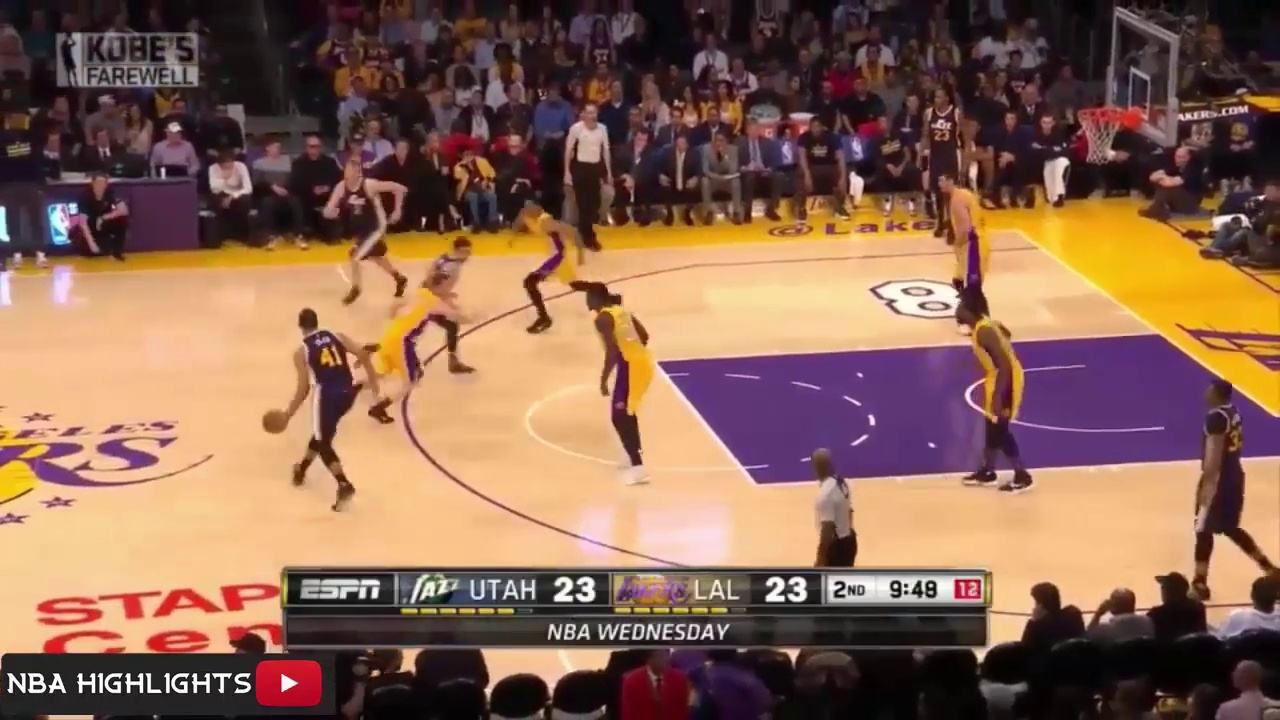jazz: (244, 302, 377, 499), (1178, 365, 1272, 591), (323, 153, 410, 301), (426, 236, 487, 377), (923, 89, 967, 230)
lakers: (569, 280, 674, 483), (949, 301, 1045, 491), (359, 274, 475, 412), (503, 198, 607, 336), (925, 170, 997, 312)
